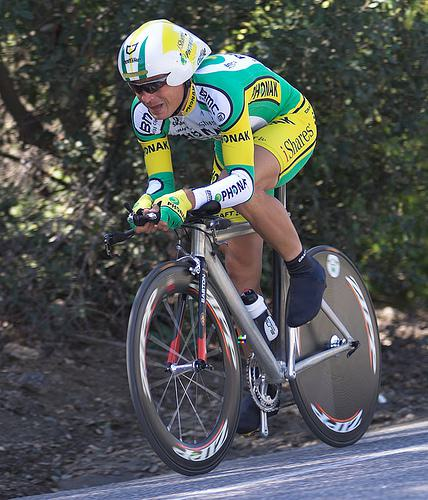car: (102, 200, 383, 478)
person: (118, 19, 328, 434)
